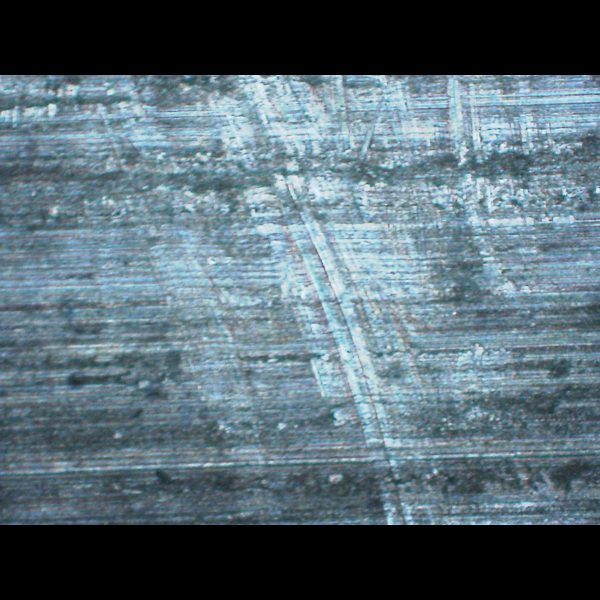d: (167, 75, 599, 440)
